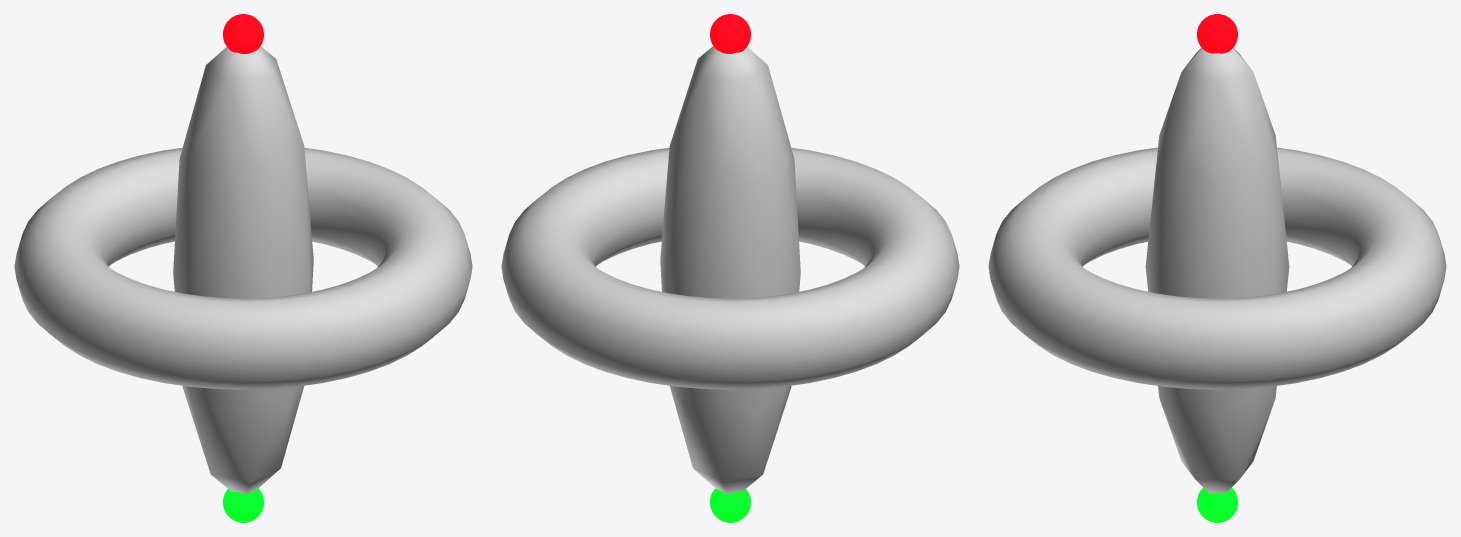
File: basicSensor.fbx
The picture shows the model from 3 angles, left to right: view 1: azimuth 30°, elevation 25°; view 2: azimuth 150°, elevation 25°; view 3: azimuth 270°, elevation 25°; orthographic projection.
Visible parts, largest first — view 1: Icosphere, Sphere, Sphere.001; view 2: Icosphere, Sphere, Sphere.001; view 3: Icosphere, Sphere, Sphere.001.
Boxes of the visible parts, x1,y1,x2,y2 form: Icosphere: (14, 46, 472, 494); Sphere: (223, 14, 263, 53); Sphere.001: (223, 488, 263, 522); Icosphere: (501, 46, 959, 494); Sphere: (710, 14, 750, 53); Sphere.001: (710, 488, 750, 522); Icosphere: (988, 48, 1446, 493); Sphere: (1197, 14, 1237, 53); Sphere.001: (1197, 487, 1237, 522).
Size of the model in its own units: 250 by 304 by 250.
